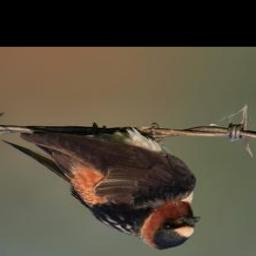Swallow: (0, 123, 202, 253)
